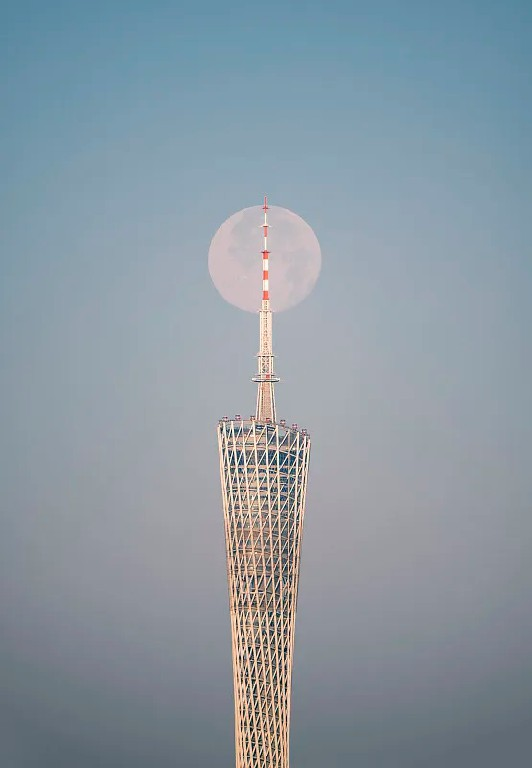Canton: (216, 194, 310, 768)
